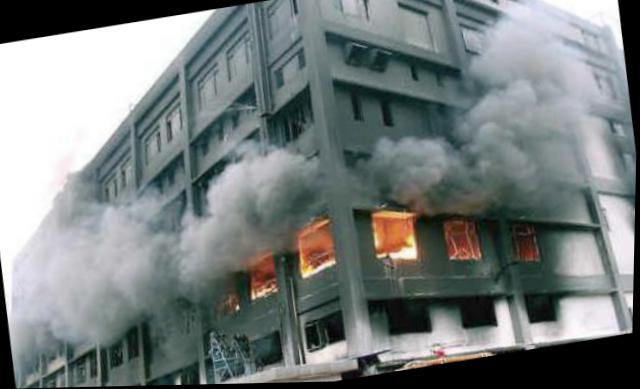fire: (368, 205, 417, 261), (295, 221, 336, 274), (442, 217, 483, 264), (244, 251, 279, 297)
smoke: (3, 146, 212, 349), (354, 114, 612, 205), (437, 0, 600, 137), (193, 124, 322, 236)
